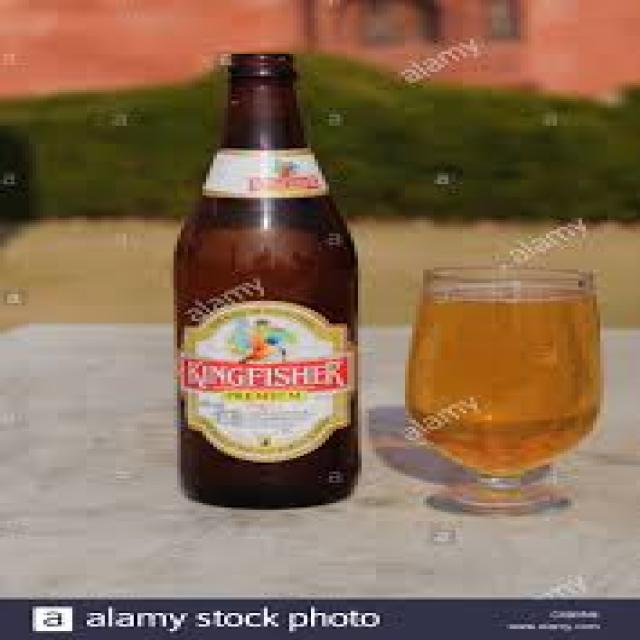glass: (177, 52, 358, 505), (402, 267, 601, 512)
